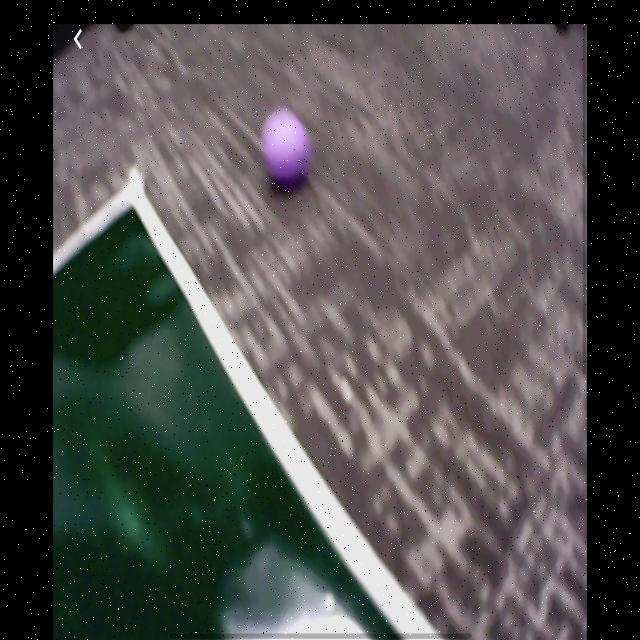ball: (260, 106, 313, 191)
